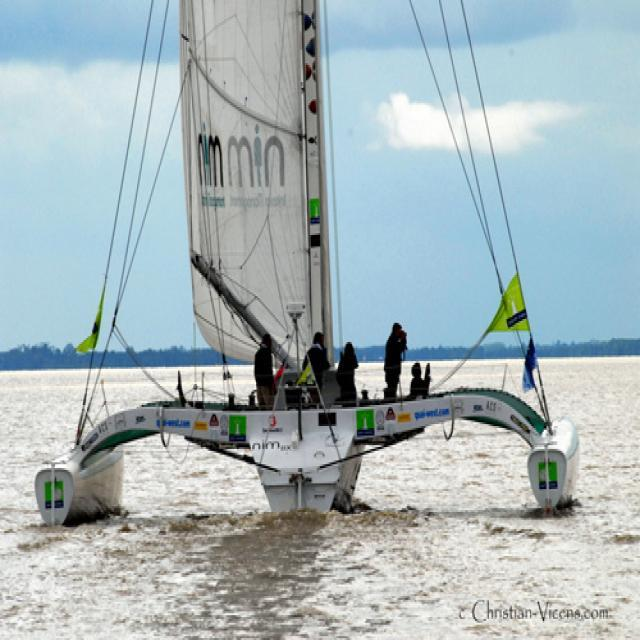Ship: (32, 4, 586, 550)
